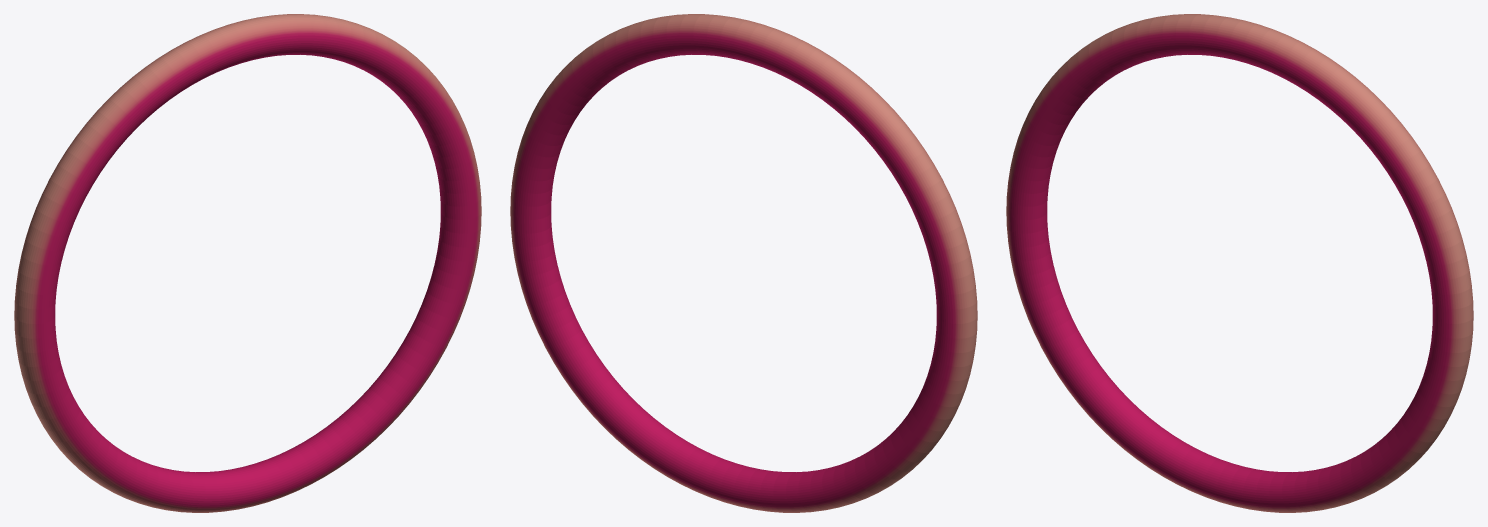
3 views of the same model, side by side, from view 1: azimuth 30°, elevation 25°; view 2: azimuth 150°, elevation 25°; view 3: azimuth 330°, elevation 25° (orthographic).
Parts seen in each view (by area): view 1: world; view 2: world; view 3: world.
Part boxes in pixels (x1,y1,x2,y2): world: [14, 14, 481, 512]; world: [510, 14, 977, 512]; world: [1006, 14, 1473, 512].
Bounding box in the file's own units: 29.6 × 29.6 × 2.26.
